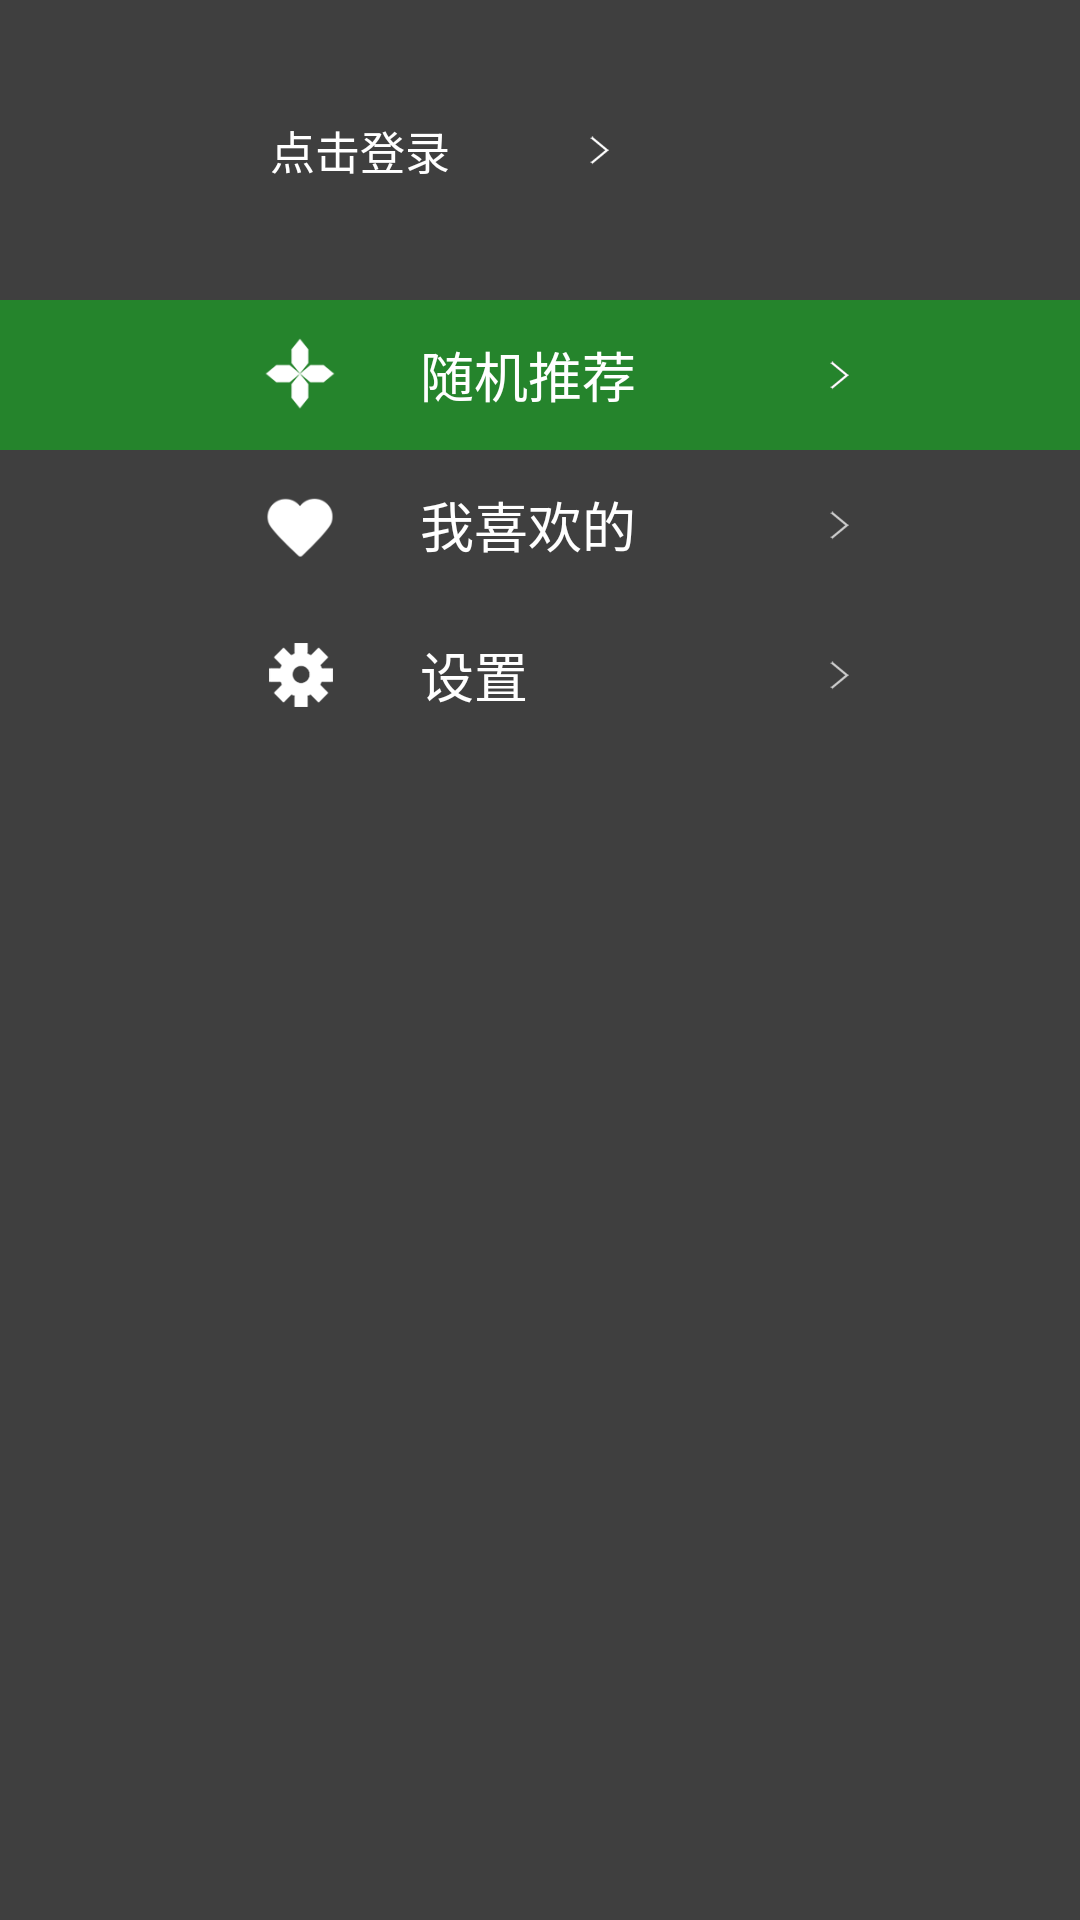

Where to tap for icons on this 1080 × 1920 app screen, as [x,y]:
arrow checked: [599,150], [839,375]
arrow nonchecked: [839,525], [839,675]
liked checked: [300,527]
setting checked: [301,675]
